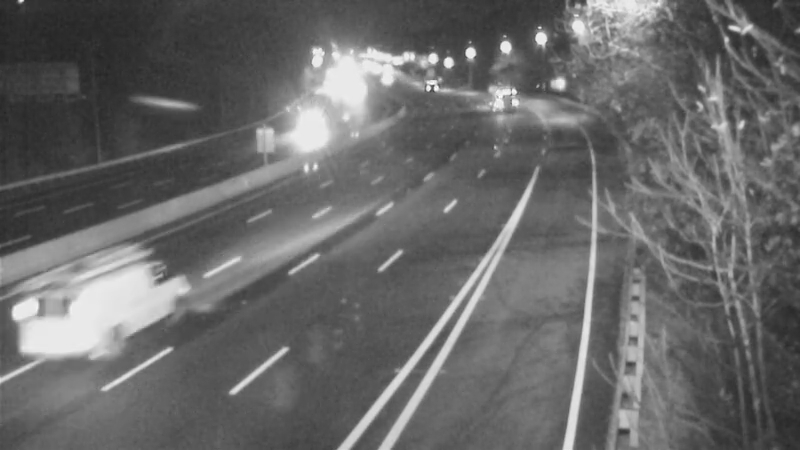vehicle: (51, 250, 161, 360), (470, 77, 520, 127), (290, 102, 340, 152)
